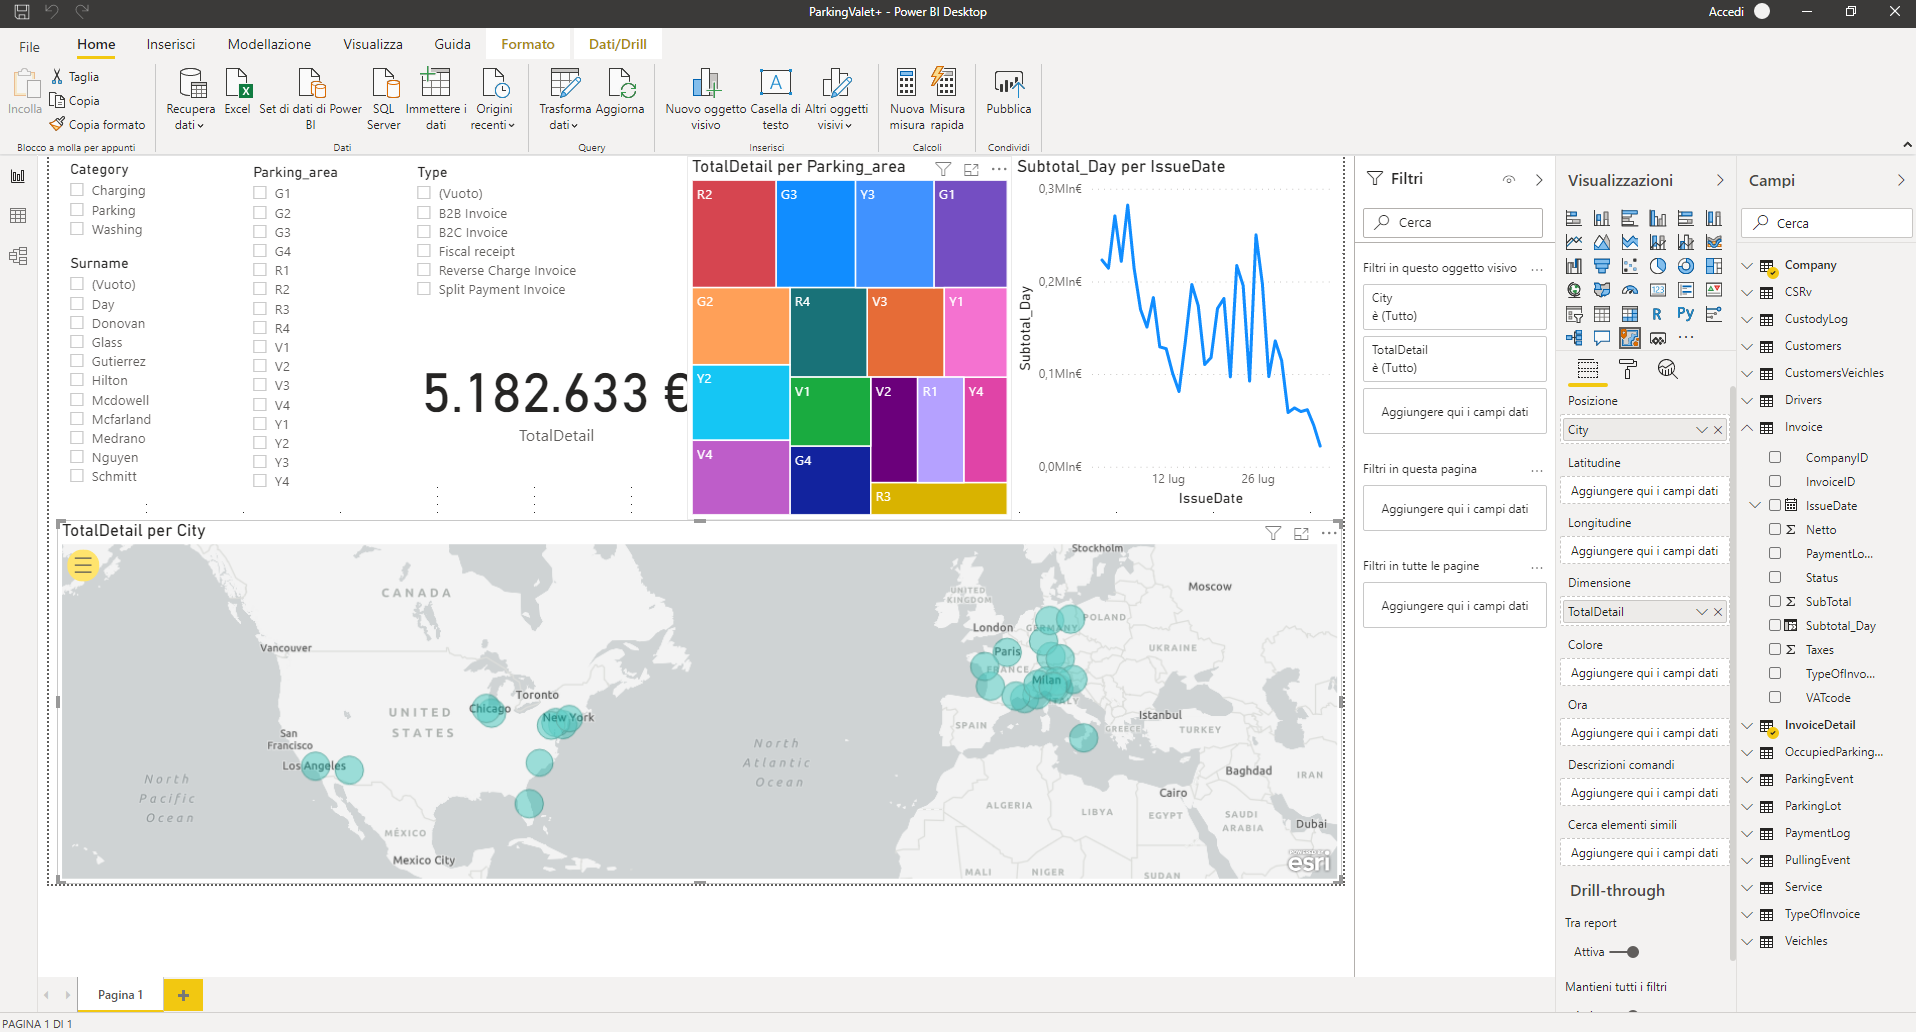

The dashboard page shown, as its layout file describes it:
{"tool":"powerbi","page":{"name":"Pagina 1","canvas":[1280,720],"ordinal":0},"visuals":[{"type":"esriVisual","fields":{"Location":["Company.City"],"Size":["InvoiceDetail.TotalDetail"]},"box":[7.9,360.2,1271.8,360.2],"z":0},{"type":"slicer","fields":{"Values":["Service.Category"]},"box":[7.9,0,181.1,93],"z":1000},{"type":"slicer","fields":{"Values":["Drivers.Surname"]},"box":[7.9,93,181.1,246.4],"z":2000},{"type":"card","fields":{"Values":["InvoiceDetail.TotalDetail"]},"box":[351.3,148.5,301.9,179.1],"z":3000},{"type":"slicer","fields":{"Values":["ParkingLot.Parking_area"]},"box":[189,3,162.3,348.4],"z":4000},{"type":"slicer","fields":{"Values":["TypeOfInvoice.Type"]},"box":[351.3,3,280.1,149.4],"z":5000},{"type":"treemap","fields":{"Values":["InvoiceDetail.TotalDetail"],"Group":["ParkingLot.Parking_area"]},"box":[631.4,0,321.6,360.2],"z":6000},{"type":"lineChart","fields":{"Category":["Invoice.IssueDate"],"Y":["Invoice.CumulativeSum"]},"box":[953.1,0,326.6,351.3],"z":7000}]}

Visuals, with their boxes on the page's 1280x720 design canvas (x1, y1, x2, y2). These are canvas units, not pixel positions in the 1916x1032 screenshot, which may show the page scaled, cropped or inside an application window:
esriVisual - Company.City x InvoiceDetail.TotalDetail: crop(8, 360, 1280, 720)
slicer - Service.Category: crop(8, 0, 189, 93)
slicer - Drivers.Surname: crop(8, 93, 189, 339)
card - InvoiceDetail.TotalDetail: crop(351, 148, 653, 328)
slicer - ParkingLot.Parking_area: crop(189, 3, 351, 351)
slicer - TypeOfInvoice.Type: crop(351, 3, 631, 152)
treemap - InvoiceDetail.TotalDetail x ParkingLot.Parking_area: crop(631, 0, 953, 360)
lineChart - Invoice.IssueDate x Invoice.CumulativeSum: crop(953, 0, 1280, 351)
